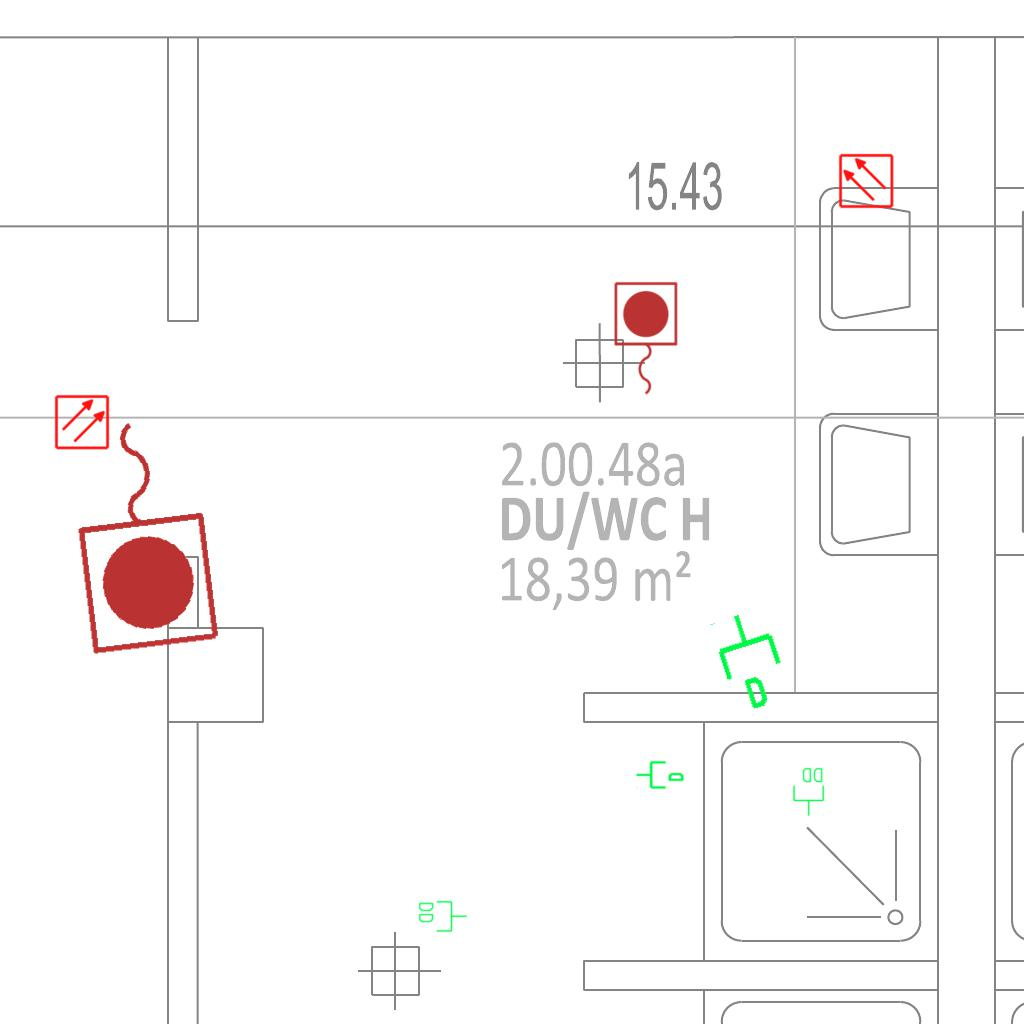Datenanschluss_einfach: (704, 601, 801, 719), (635, 757, 685, 791)
Datenanschluss_zweifach: (792, 766, 826, 817), (417, 899, 468, 933)
RMO_Rauchmelder_optischer: (54, 394, 110, 450), (838, 153, 894, 209)
Zugtaster: (57, 403, 231, 663), (609, 278, 681, 400)
